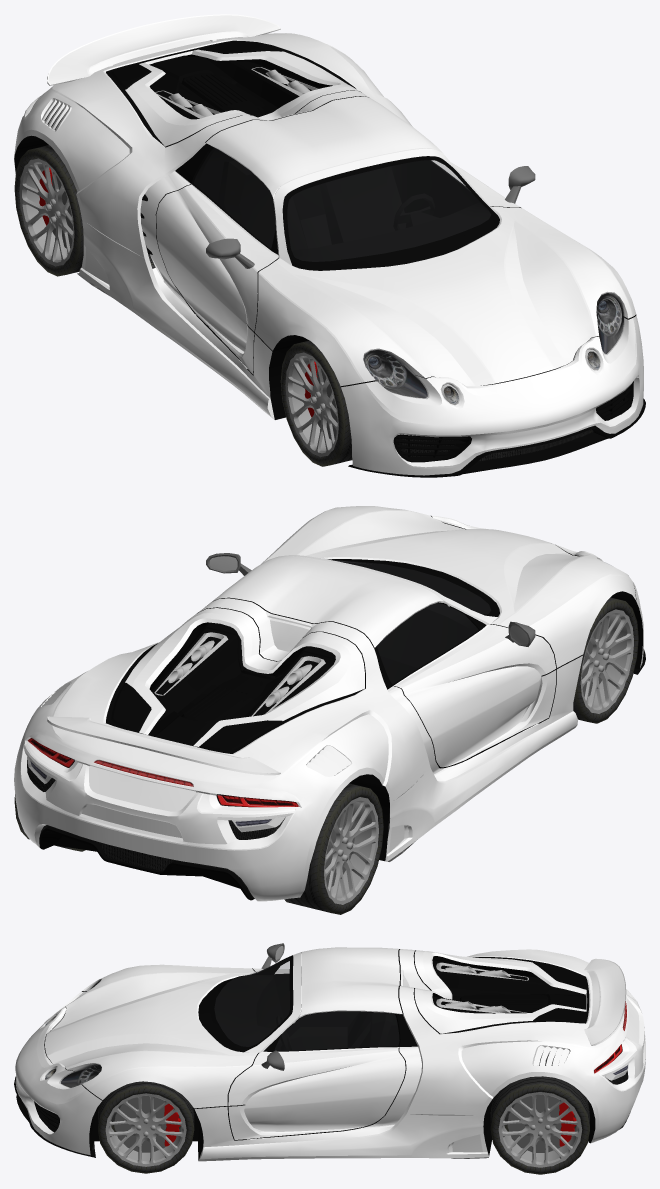
Rendered from porsche_918_r-type.glb.
The picture shows the model from 3 angles, top to bottom: view 1: azimuth 30°, elevation 25°; view 2: azimuth 150°, elevation 25°; view 3: azimuth 270°, elevation 25°; orthographic projection. The views are drawn at different scales.
Parts seen in each view (by area): view 1: C_SpyderPork_Body_01_0, C_SpyderPork_Underbody_01_0, C_SpyderPork_FrontGlass_01_0, C_Wheel_Tire_01_0.001, C_Wheel_Tire_01_0.000, C_SpyderPork_HeadlightGlass_01_0, C_SpyderPork_TailLights_01_0.003_M_SpyderPork_TailLights_01_, C_SpyderPork_ChromeParts_01_0, C_Nister_Rearview_01 (2)_0, C_SpyderPork_TailLights_01_0.001_M_SpyderPork_TailLights_01_; view 2: C_SpyderPork_Body_01_0, C_SpyderPork_Underbody_01_0, C_Wheel_Tire_01_0.001, C_Wheel_Tire_01_0.000, C_SpyderPork_FrontGlass_01_0, C_SpyderPork_ChromeParts_01_0, C_SpyderPork_TailLights_01_0.008_M_SpyderPork_TailLights_01_, C_SpyderPork_TailLights_01_0.006_M_SpyderPork_TailLights_01_, C_SpyderPork_TailLights_01_0, C_Nister_Rearview_01 (2)_0, C_Nister_Rearview_01 (2)_1; view 3: C_SpyderPork_Body_01_0, C_SpyderPork_Underbody_01_0, C_SpyderPork_FrontGlass_01_0, C_Wheel_Tire_01_0.002, C_Wheel_Tire_01_0.003, C_SpyderPork_ChromeParts_01_0, C_SpyderPork_HeadlightGlass_01_0, C_Nister_Rearview_01 (2)_0, C_SpyderPork_TailLights_01_0.003_M_SpyderPork_TailLights_01_, HurraKang_Brake_Calliper_0.002, HurraKang_Brake_Calliper_0.003.
Part boxes in pixels (x1,y1,x2,y2): C_SpyderPork_Body_01_0: [14, 14, 643, 475]; C_SpyderPork_Underbody_01_0: [14, 40, 645, 477]; C_SpyderPork_FrontGlass_01_0: [194, 148, 490, 261]; C_Wheel_Tire_01_0.001: [14, 145, 83, 276]; C_Wheel_Tire_01_0.000: [280, 340, 352, 466]; C_SpyderPork_HeadlightGlass_01_0: [364, 293, 623, 402]; C_SpyderPork_TailLights_01_0.003_M_SpyderPork_TailLights_01_: [363, 293, 623, 398]; C_SpyderPork_ChromeParts_01_0: [155, 67, 624, 405]; C_Nister_Rearview_01 (2)_0: [206, 166, 535, 268]; C_SpyderPork_TailLights_01_0.001_M_SpyderPork_TailLights_01_: [395, 397, 625, 461]; C_SpyderPork_Body_01_0: [14, 506, 643, 901]; C_SpyderPork_Underbody_01_0: [39, 516, 645, 900]; C_Wheel_Tire_01_0.001: [284, 783, 383, 914]; C_Wheel_Tire_01_0.000: [573, 597, 638, 723]; C_SpyderPork_FrontGlass_01_0: [324, 558, 490, 683]; C_SpyderPork_ChromeParts_01_0: [154, 632, 325, 716]; C_SpyderPork_TailLights_01_0.008_M_SpyderPork_TailLights_01_: [40, 825, 253, 897]; C_SpyderPork_TailLights_01_0.006_M_SpyderPork_TailLights_01_: [27, 738, 299, 807]; C_SpyderPork_TailLights_01_0: [27, 757, 284, 839]; C_Nister_Rearview_01 (2)_0: [206, 553, 535, 646]; C_Nister_Rearview_01 (2)_1: [209, 556, 528, 644]; C_SpyderPork_Body_01_0: [15, 947, 645, 1161]; C_SpyderPork_Underbody_01_0: [14, 949, 630, 1160]; C_SpyderPork_FrontGlass_01_0: [215, 958, 398, 1050]; C_Wheel_Tire_01_0.002: [490, 1076, 589, 1174]; C_Wheel_Tire_01_0.003: [98, 1081, 194, 1173]; C_SpyderPork_ChromeParts_01_0: [45, 962, 528, 1088]; C_SpyderPork_HeadlightGlass_01_0: [45, 980, 100, 1086]; C_Nister_Rearview_01 (2)_0: [261, 943, 284, 1070]; C_SpyderPork_TailLights_01_0.003_M_SpyderPork_TailLights_01_: [61, 979, 101, 1087]; HurraKang_Brake_Calliper_0.002: [559, 1102, 576, 1146]; HurraKang_Brake_Calliper_0.003: [164, 1103, 180, 1146].
Size of the model in its own units: 214 by 124 by 477.
11 materials, 3 textured.
